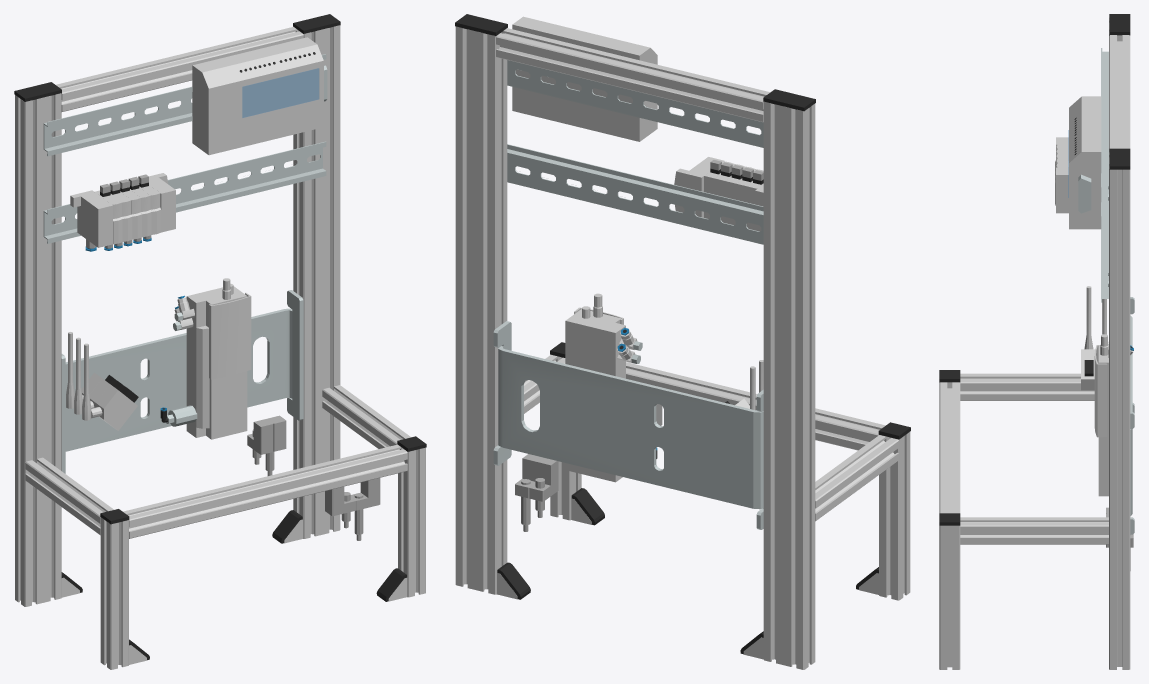
File: magFront no hopper.fbx
The picture shows the model from 3 angles, left to right: view 1: azimuth 30°, elevation 25°; view 2: azimuth 150°, elevation 25°; view 3: azimuth 270°, elevation 25°; orthographic projection. The views are drawn at different scales.
Parts seen in each view (by area): view 1: FbxMesh.001, FbxMesh.070, FbxMesh.084, FbxMesh.008, FbxMesh.073, FbxMesh.082, FbxMesh.051, FbxMesh.076, FbxMesh.083, FbxMesh, FbxMesh.072, FbxMesh.052 (+10 smaller); view 2: FbxMesh.001, FbxMesh.070, FbxMesh.084, FbxMesh.082, FbxMesh.076, FbxMesh.008, FbxMesh.083, FbxMesh, FbxMesh.073, FbxMesh.051, FbxMesh.075, FbxMesh.002 (+5 smaller); view 3: FbxMesh.070, FbxMesh.074, FbxMesh.008, FbxMesh.075, FbxMesh.072, FbxMesh.073, FbxMesh.076, FbxMesh.083, FbxMesh.052, FbxMesh.051, FbxMesh.084, FbxMesh.082 (+6 smaller).
Boxes of the visible parts, left/top/right/bottom form: FbxMesh.001: left=15, top=93, right=61, bottom=606; FbxMesh.070: left=293, top=25, right=340, bottom=538; FbxMesh.084: left=61, top=290, right=303, bottom=473; FbxMesh.008: left=192, top=37, right=323, bottom=155; FbxMesh.073: left=123, top=444, right=407, bottom=538; FbxMesh.082: left=43, top=141, right=326, bottom=243; FbxMesh.051: left=186, top=286, right=247, bottom=439; FbxMesh.076: left=56, top=27, right=303, bottom=111; FbxMesh.083: left=43, top=54, right=326, bottom=156; FbxMesh: left=100, top=517, right=128, bottom=669; FbxMesh.072: left=398, top=446, right=425, bottom=597; FbxMesh.052: left=209, top=292, right=251, bottom=379; FbxMesh.001: left=763, top=101, right=815, bottom=669; FbxMesh.070: left=455, top=26, right=507, bottom=594; FbxMesh.084: left=493, top=321, right=763, bottom=529; FbxMesh.082: left=507, top=144, right=763, bottom=244; FbxMesh.076: left=496, top=28, right=769, bottom=122; FbxMesh.008: left=512, top=16, right=657, bottom=141; FbxMesh.083: left=507, top=60, right=763, bottom=147; FbxMesh: left=879, top=432, right=910, bottom=600; FbxMesh.073: left=626, top=362, right=885, bottom=450; FbxMesh.051: left=565, top=309, right=625, bottom=482; FbxMesh.075: left=815, top=435, right=898, bottom=521; FbxMesh.002: left=497, top=488, right=604, bottom=599; FbxMesh.070: left=1109, top=152, right=1130, bottom=669; FbxMesh.074: left=960, top=517, right=1108, bottom=544; FbxMesh.008: left=1069, top=96, right=1101, bottom=229; FbxMesh.075: left=960, top=373, right=1094, bottom=400; FbxMesh.072: left=939, top=525, right=960, bottom=669; FbxMesh.073: left=939, top=382, right=960, bottom=513; FbxMesh.076: left=1109, top=35, right=1130, bottom=151; FbxMesh.083: left=1101, top=48, right=1108, bottom=216; FbxMesh.052: left=1094, top=345, right=1107, bottom=437; FbxMesh.051: left=1098, top=345, right=1108, bottom=496; FbxMesh.084: left=1130, top=297, right=1134, bottom=534; FbxMesh.082: left=1101, top=212, right=1108, bottom=302.
Size of the model in its own units: 34 by 52.34 by 18.43.
